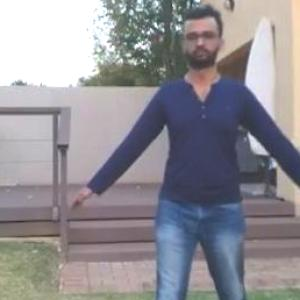land: (91, 32, 295, 299)
